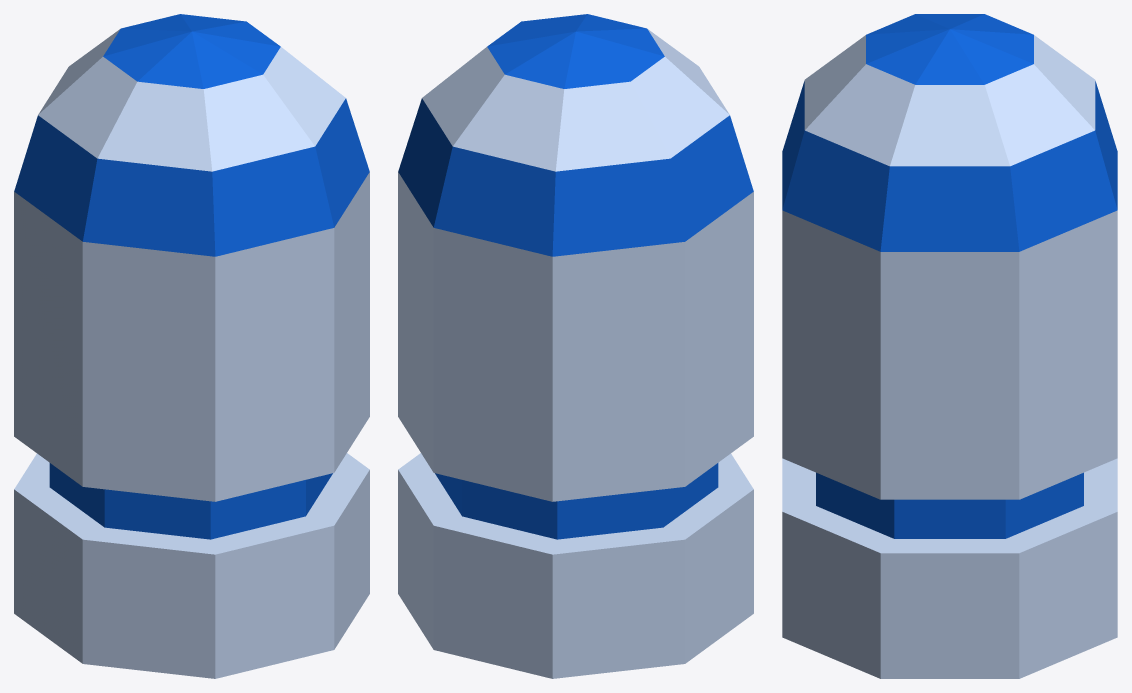
Rendered from Mortar_Shell_2.fbx.
3 renders of one model, left to right at view 1: azimuth 30°, elevation 25°; view 2: azimuth 150°, elevation 25°; view 3: azimuth 270°, elevation 25°, orthographic.
Visible parts, largest first — view 1: MortarShell2; view 2: MortarShell2; view 3: MortarShell2.
Boxes of the visible parts, left/top/right/bottom form: MortarShell2: left=14, top=14, right=369, bottom=678; MortarShell2: left=398, top=14, right=753, bottom=678; MortarShell2: left=782, top=14, right=1117, bottom=678.
Size of the model in its own units: 8.02 by 15.27 by 8.02.
1 material, 1 textured.
